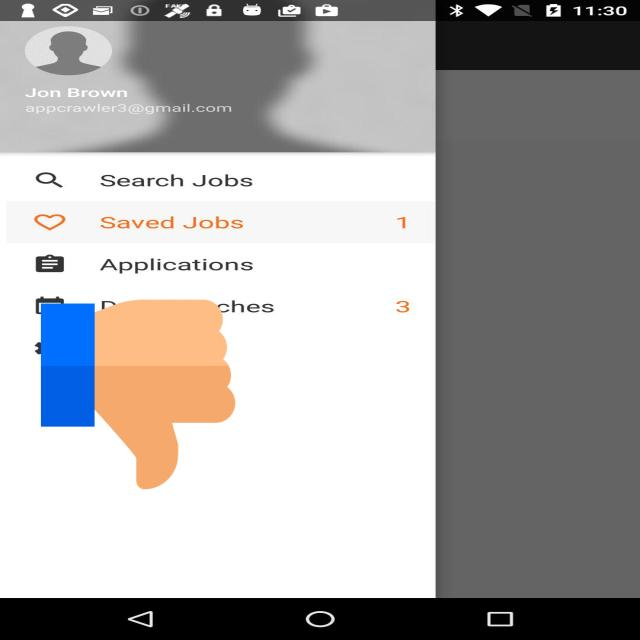obstruction: (41, 295, 235, 494)
